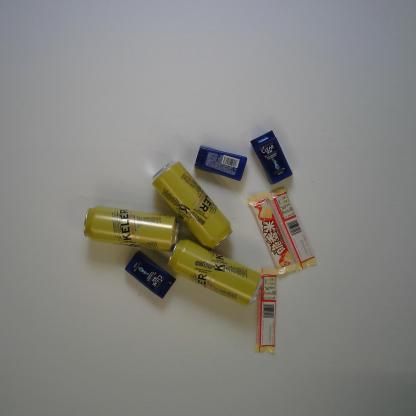Alcohol: (152, 157, 235, 253), (166, 238, 265, 309), (83, 204, 181, 255)
Chocolate: (246, 191, 298, 279), (266, 186, 319, 272), (254, 265, 278, 359)
Personal Hygiene: (122, 250, 178, 302), (249, 127, 294, 188), (194, 142, 247, 181)
